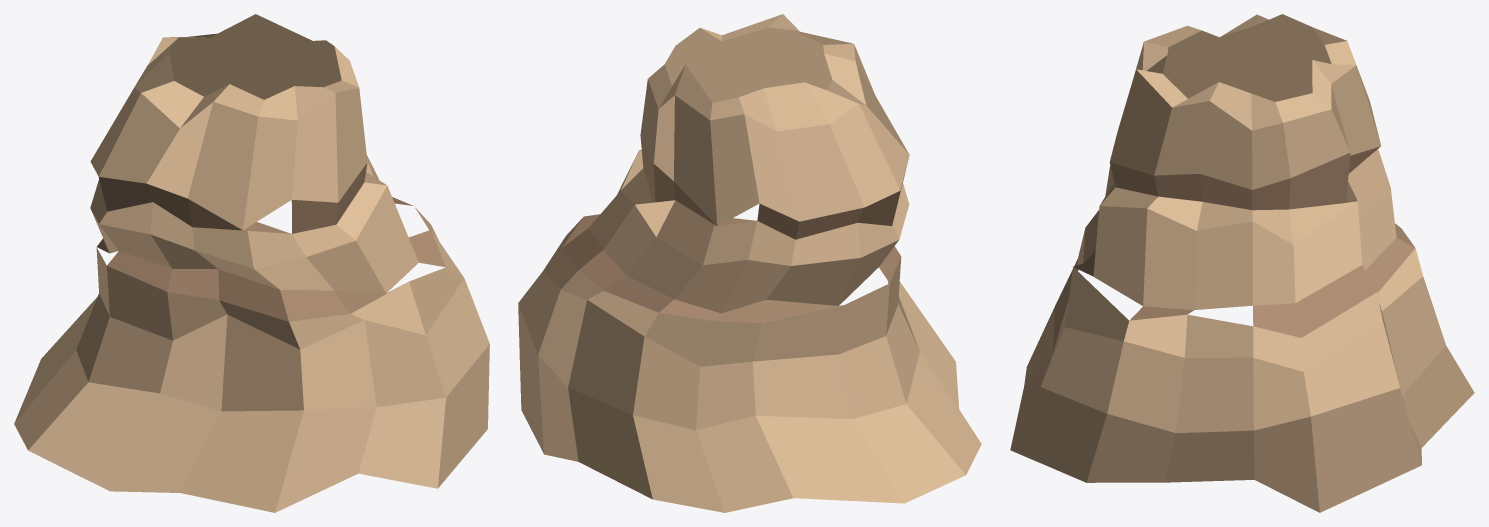
The model's file is tabletop_mesa.glb.
3 renders of one model, left to right at view 1: azimuth 30°, elevation 25°; view 2: azimuth 150°, elevation 25°; view 3: azimuth 270°, elevation 25°, orthographic. The views are drawn at different scales.
Visible parts, largest first — view 1: tabletop_mesa; view 2: tabletop_mesa; view 3: tabletop_mesa.
Boxes of the visible parts, x1,y1,x2,y2 form: tabletop_mesa: (14,14,489,512); tabletop_mesa: (518,14,981,512); tabletop_mesa: (1010,14,1474,512).
Size of the model in its own units: 1.31 by 1.12 by 1.25.
